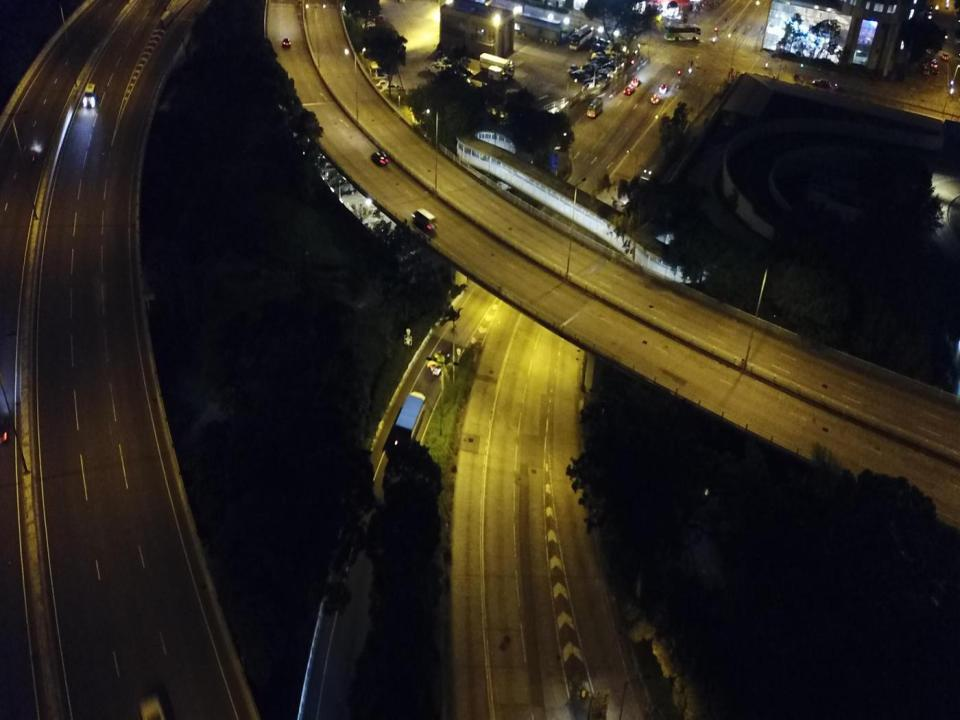bus: (569, 22, 591, 51), (664, 24, 701, 40)
car: (430, 349, 450, 376), (600, 63, 619, 76), (570, 70, 590, 82), (582, 63, 601, 75), (372, 151, 388, 165), (606, 60, 628, 70), (588, 76, 608, 86), (812, 78, 831, 88), (596, 68, 614, 78), (589, 58, 608, 66), (590, 52, 608, 59), (567, 64, 578, 74), (651, 92, 660, 104), (624, 85, 634, 95), (931, 59, 938, 73), (923, 62, 930, 75), (282, 38, 291, 48), (659, 83, 668, 93), (631, 77, 640, 87), (942, 52, 948, 60)
truck: (394, 390, 425, 448), (480, 52, 514, 79), (488, 65, 507, 83)
van: (413, 209, 437, 231), (83, 81, 97, 107), (586, 100, 603, 117)
